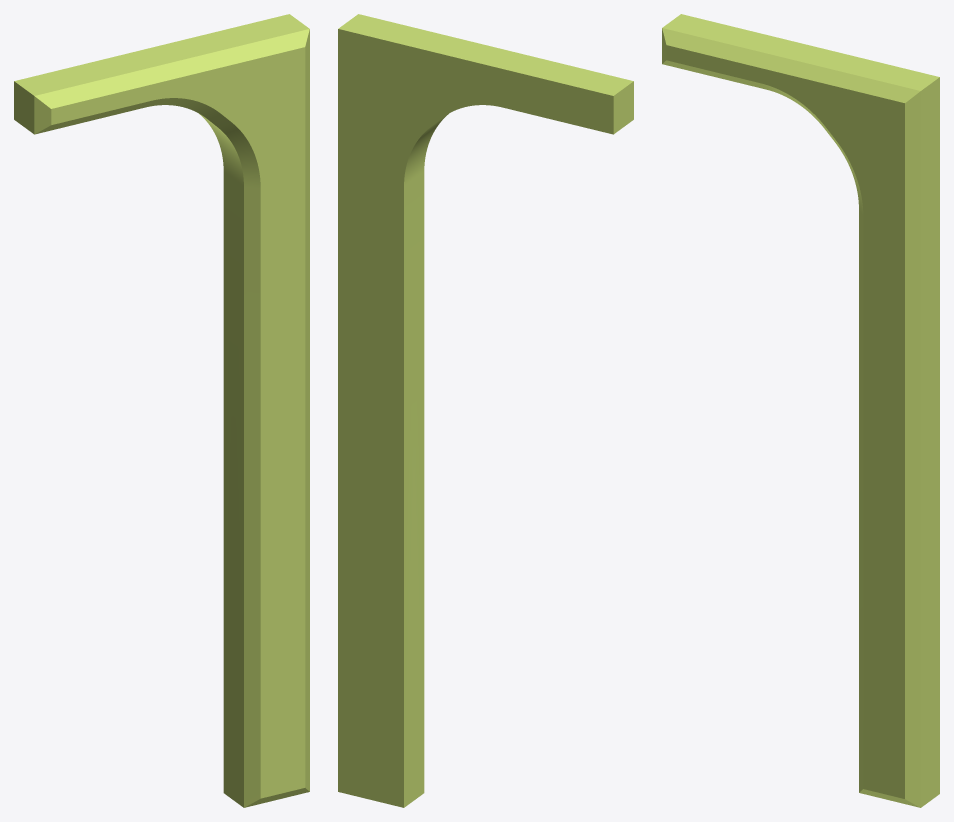
Rendered from pinball test1.fbx.
3 renders of one model, left to right at view 1: azimuth 30°, elevation 25°; view 2: azimuth 150°, elevation 25°; view 3: azimuth 330°, elevation 25°, orthographic. The views are drawn at different scales.
Visible parts, largest first — view 1: pinball table test1; view 2: pinball table test1; view 3: pinball table test1.
Boxes of the visible parts, bbox=[...] form: pinball table test1: bbox=[14, 14, 309, 807]; pinball table test1: bbox=[338, 14, 633, 807]; pinball table test1: bbox=[662, 14, 939, 807].
Bounding box in the file's own units: 4509 × 11939 × 747.
